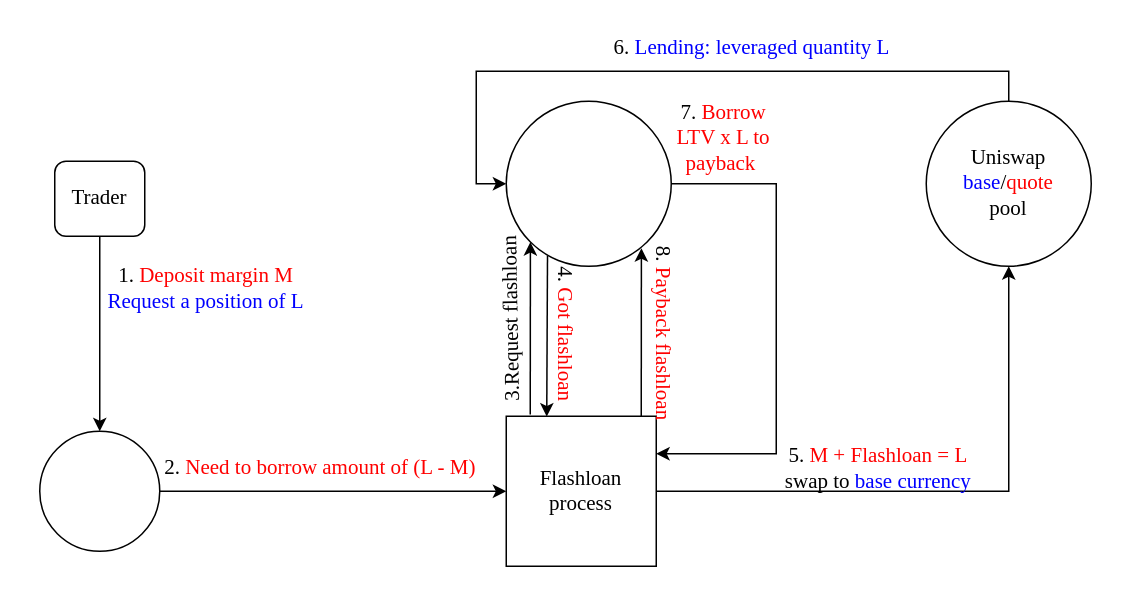
The diagram is 1131 pixels wide and 606 high, and some of its shapes have lost their labels. The centre of each missing label's shape, as x and y in pixels:
Aave base / quote pool: (x=588, y=183)
cPool base / quote pool: (x=99, y=490)
